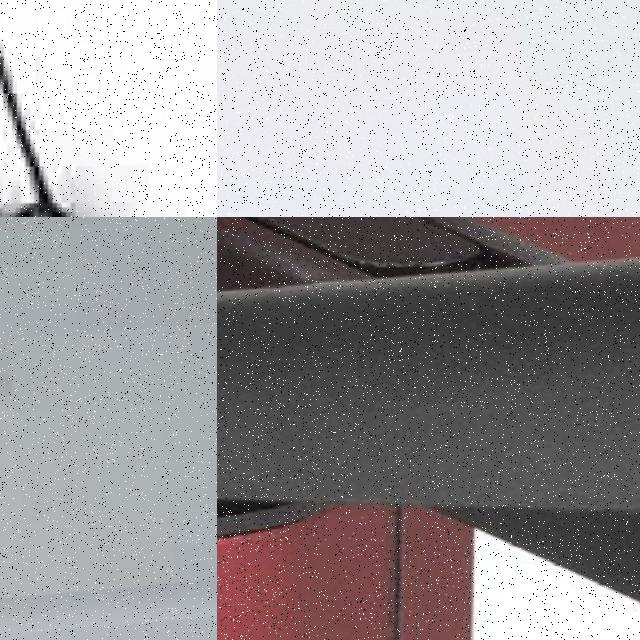drone: (217, 217, 640, 640), (0, 0, 217, 217)
